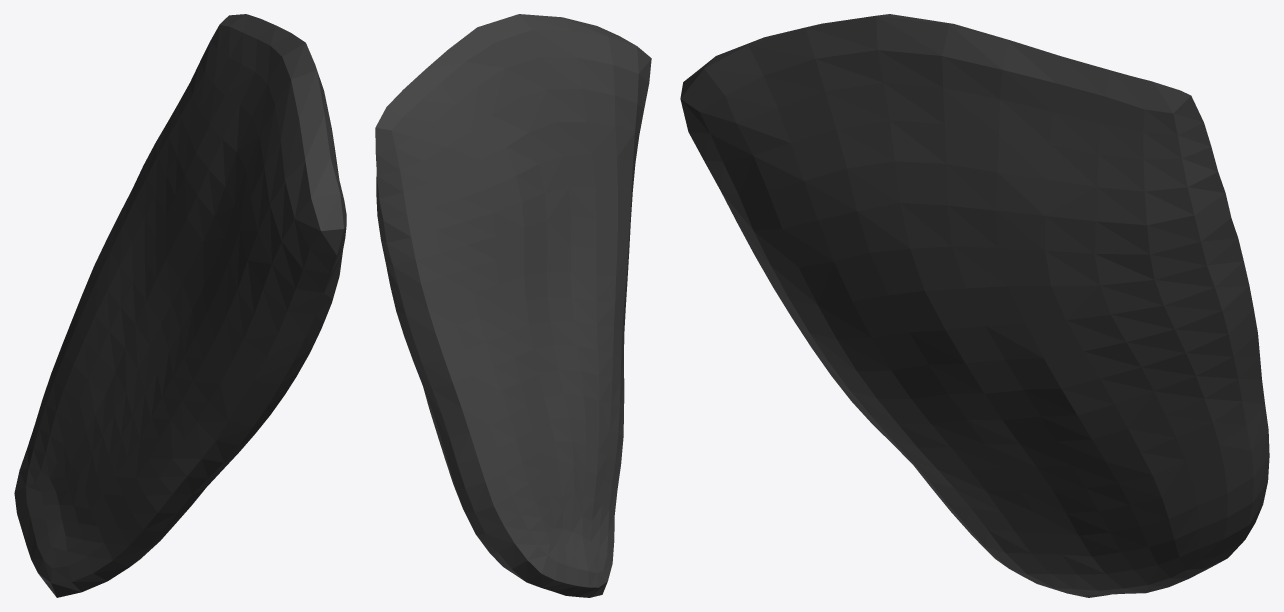
File: masseter_med.glb
3 renders of one model, left to right at view 1: azimuth 30°, elevation 25°; view 2: azimuth 150°, elevation 25°; view 3: azimuth 270°, elevation 25°, orthographic. The views are drawn at different scales.
Visible parts, largest first — view 1: masseter_med; view 2: masseter_med; view 3: masseter_med.
Boxes of the visible parts, x1,y1,x2,y2 form: masseter_med: (14, 14, 346, 597); masseter_med: (375, 14, 651, 597); masseter_med: (680, 14, 1269, 597).
Bounding box in the file's own units: 0.2678 × 0.6162 × 0.4744.
1 material, 1 textured.
